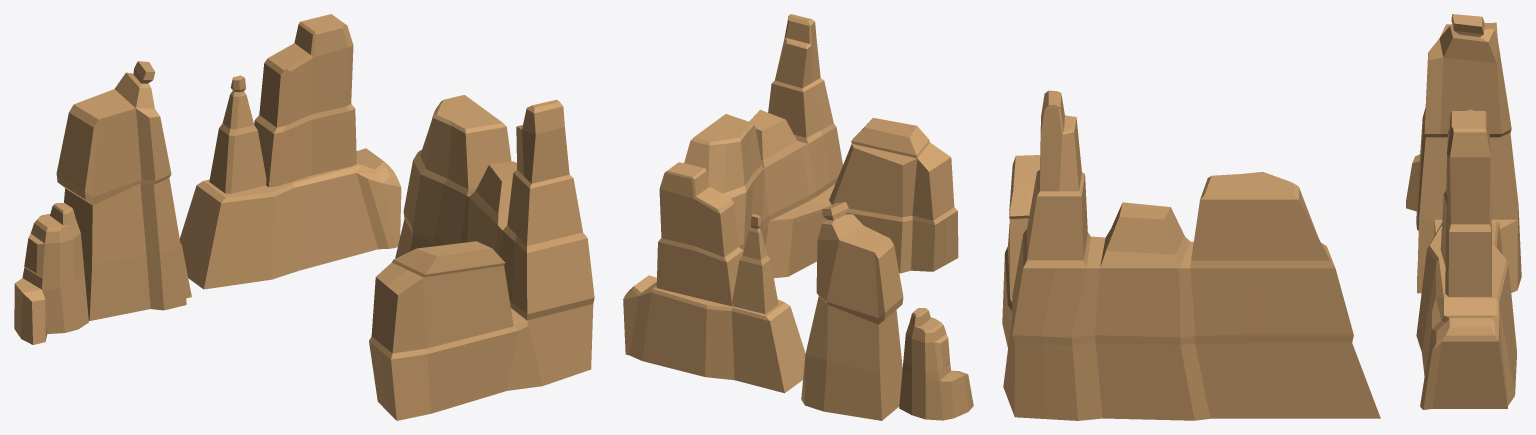
The model's file is desert.fbx.
The picture shows the model from 3 angles, left to right: view 1: azimuth 30°, elevation 25°; view 2: azimuth 150°, elevation 25°; view 3: azimuth 270°, elevation 25°; orthographic projection. The views are drawn at different scales.
Visible parts, largest first — view 1: defaultMaterial.002; view 2: defaultMaterial.002; view 3: defaultMaterial.002.
Part boxes in pixels (x1,y1,x2,y2): defaultMaterial.002: (14, 14, 594, 420); defaultMaterial.002: (623, 14, 973, 420); defaultMaterial.002: (1002, 14, 1521, 420).
Bounding box in the file's own units: 197 × 126 × 192.
